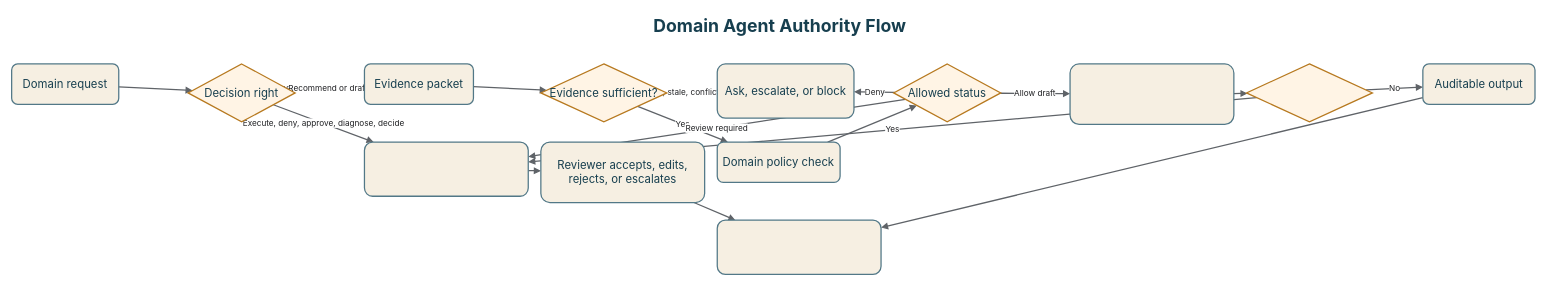
The diagram is 1546 pixels wide and 285 high, and some of its shapes have lost their labels. Each missing label, with the box of its shape:
Audit record and regression eval: (716, 219, 881, 275)
Domain agent produces draft or recommendation: (1069, 63, 1234, 125)
Human review needed?: (1246, 63, 1373, 122)
Required reviewer or policy owner: (364, 141, 529, 197)
